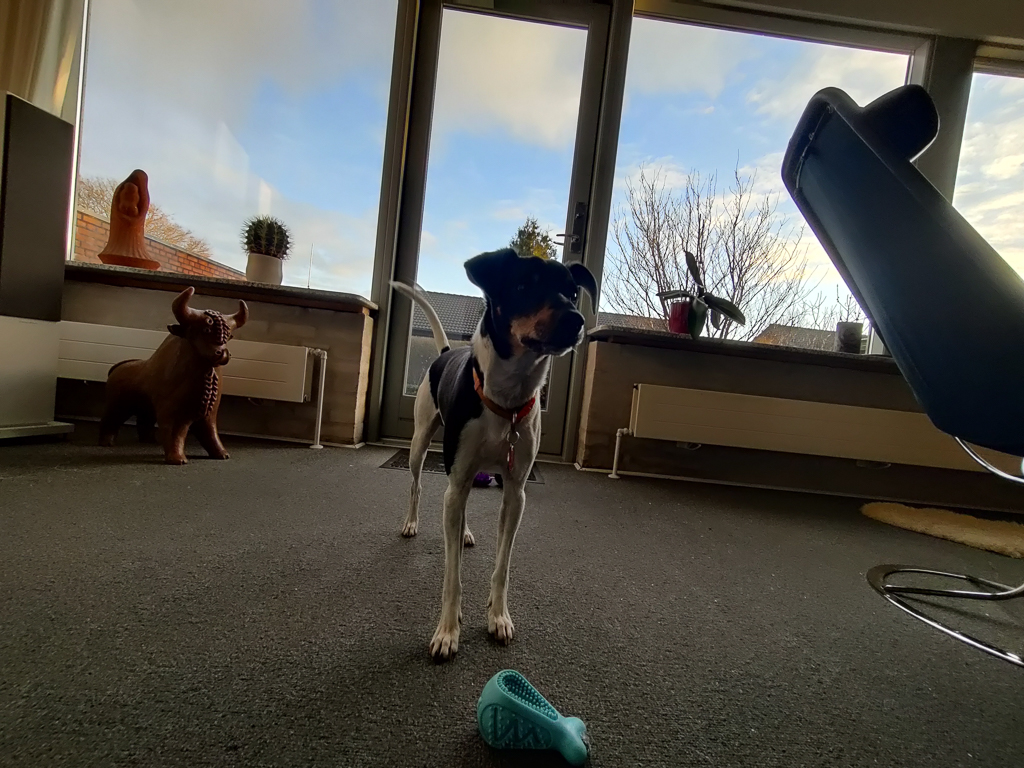Cattle: (88, 282, 253, 470)
Dog: (367, 239, 613, 669)
Humanoid: (97, 167, 169, 264)
